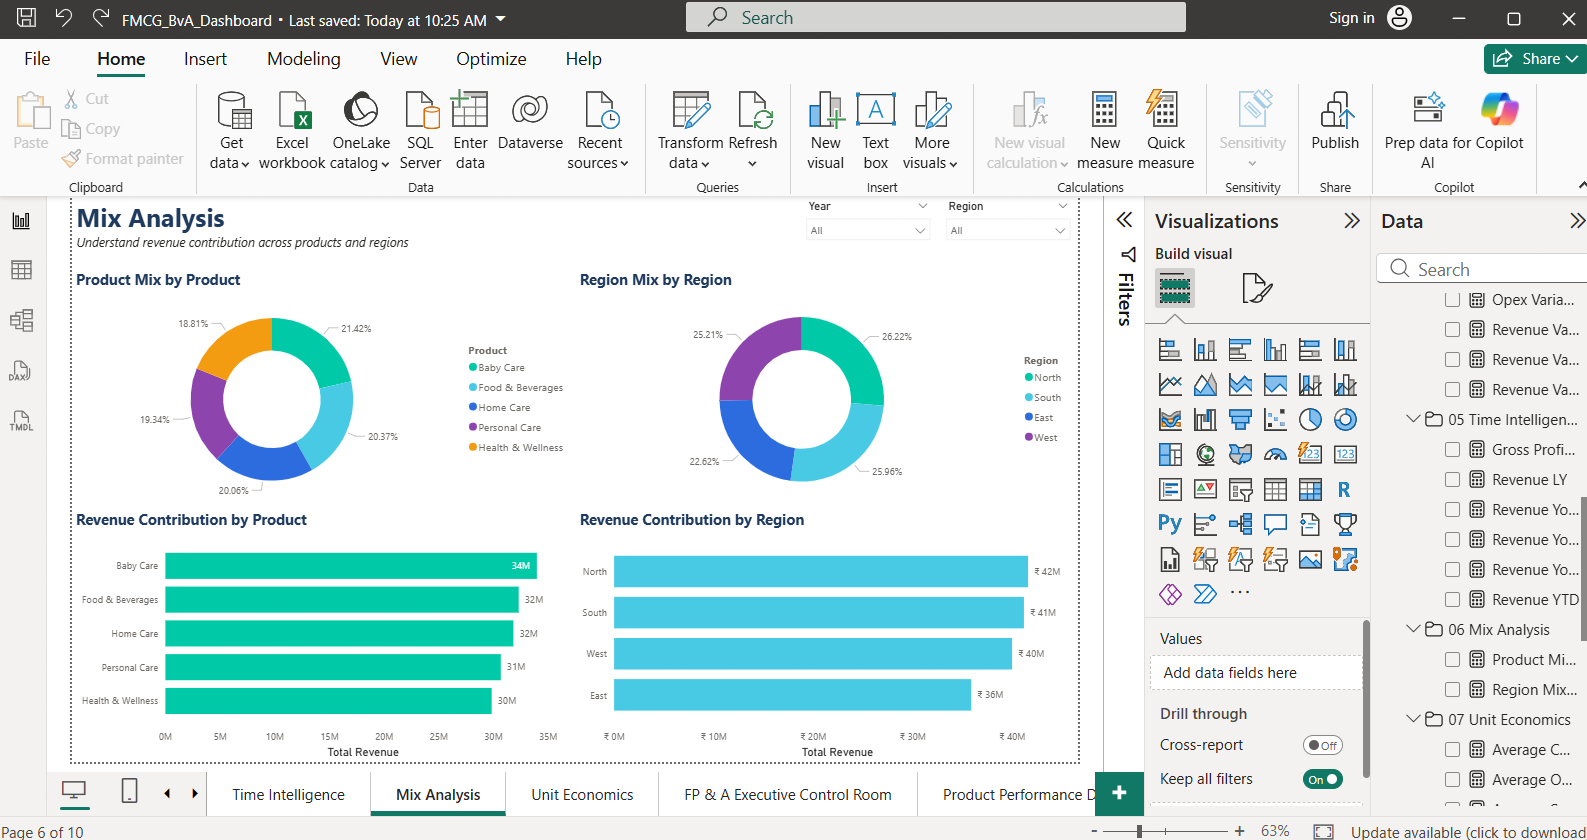

The page's visual inventory and layout, read from the dashboard file:
{"tool":"powerbi","page":{"name":"Mix Analysis","canvas":[1280,720],"ordinal":5},"visuals":[{"type":"textbox","box":[0,0,1280,73.1],"z":0},{"type":"slicer","fields":{"Values":["Dim_Date.Year"]},"box":[923.9,0,178.1,76.3],"z":1000},{"type":"slicer","fields":{"Values":["Dim_Region.Region"]},"box":[1101.9,0,178.1,76.3],"z":2000},{"type":"donutChart","title":"Product Mix by Product","fields":{"Category":["Dim_Product.Product"],"Y":["_Measures.Product Mix %"]},"box":[0,93.8,639,305.3],"z":3000},{"type":"donutChart","title":"Region Mix by Region","fields":{"Category":["Dim_Region.Region"],"Y":["_Measures.Region Mix %"]},"box":[640.8,93.8,639.2,305.3],"z":4000},{"type":"clusteredBarChart","title":"Revenue Contribution by Product","fields":{"Category":["Dim_Product.Product"],"Y":["_Measures.Total Revenue"]},"box":[0,399.1,639.2,321.2],"z":5000},{"type":"clusteredBarChart","title":"Revenue Contribution  by Region","fields":{"Category":["Dim_Region.Region"],"Y":["_Measures.Total Revenue"]},"box":[640.8,399.1,639.2,321.2],"z":6000}]}

Visuals, with their boxes on the page's 1280x720 design canvas (x1, y1, x2, y2). These are canvas units, not pixel positions in the 1587x840 screenshot, which may show the page scaled, cropped or inside an application window:
textbox: select_region(0, 0, 1280, 73)
slicer - Dim_Date.Year: select_region(924, 0, 1102, 76)
slicer - Dim_Region.Region: select_region(1102, 0, 1280, 76)
"Product Mix by Product" donutChart: select_region(0, 94, 639, 399)
"Region Mix by Region" donutChart: select_region(641, 94, 1280, 399)
"Revenue Contribution by Product" clusteredBarChart: select_region(0, 399, 639, 720)
"Revenue Contribution  by Region" clusteredBarChart: select_region(641, 399, 1280, 720)
